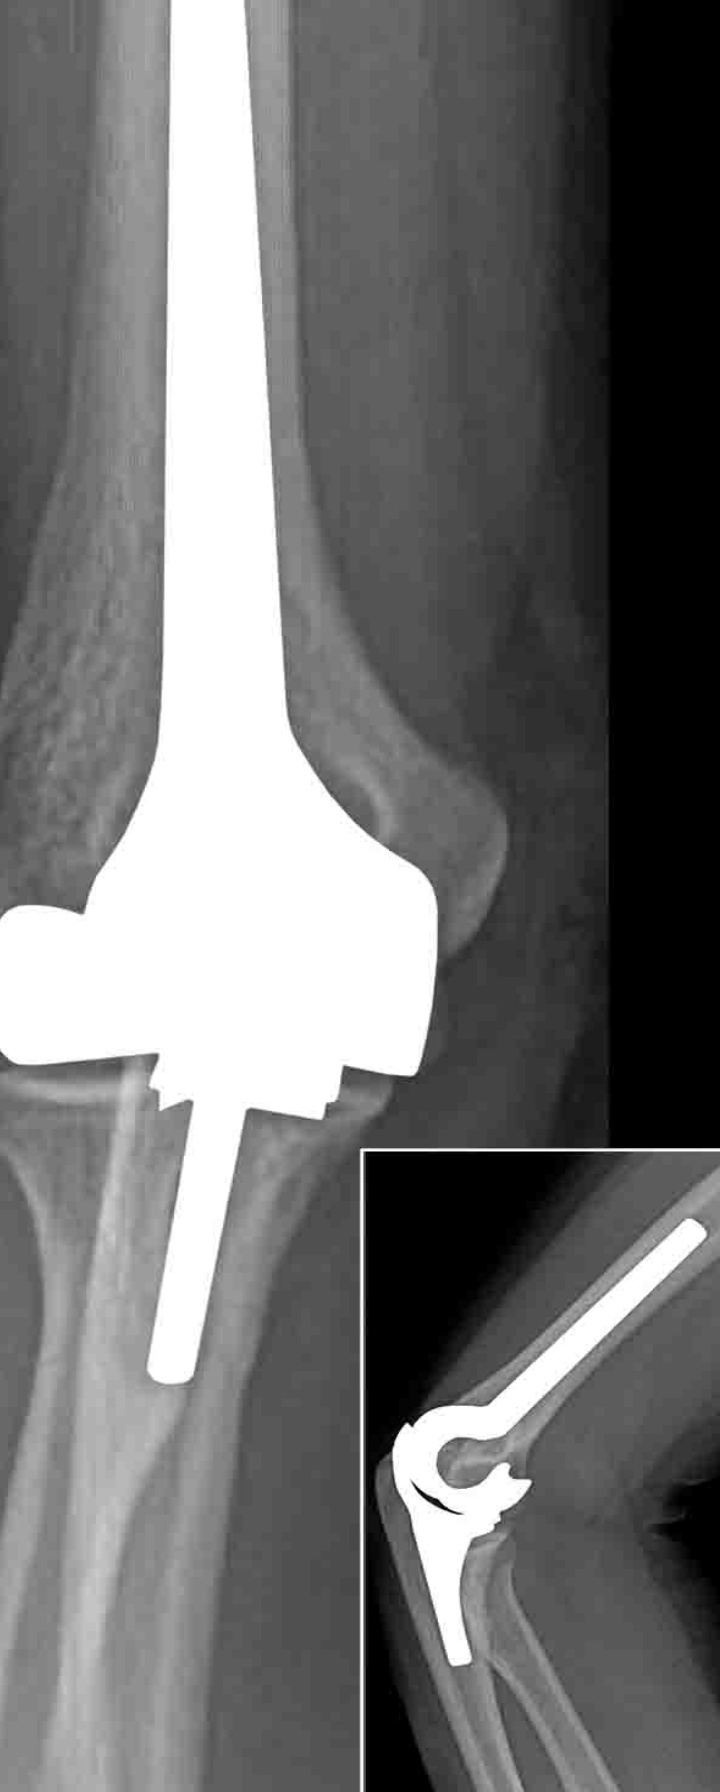Elbow - IBP - Biomet: (5, 2, 443, 1398), (379, 1175, 720, 1702)
